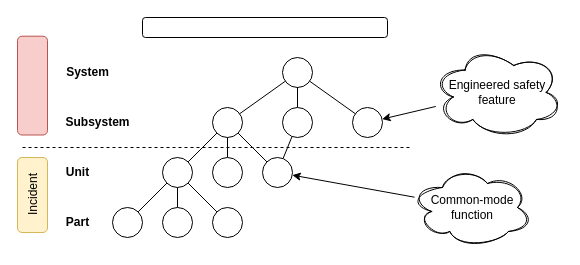
Image size: 580x265. Some labels were removed from this diagram. The centre of each missing label's shape, as x and y in pixels:
"Accident" belongs at point 32,85.
"Environment" belongs at point 265,27.
